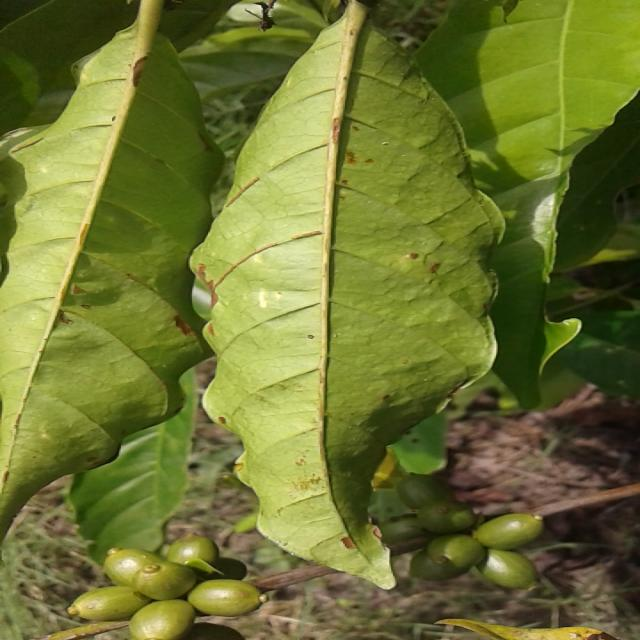Enfermedad-Roya: (190, 16, 504, 588)
